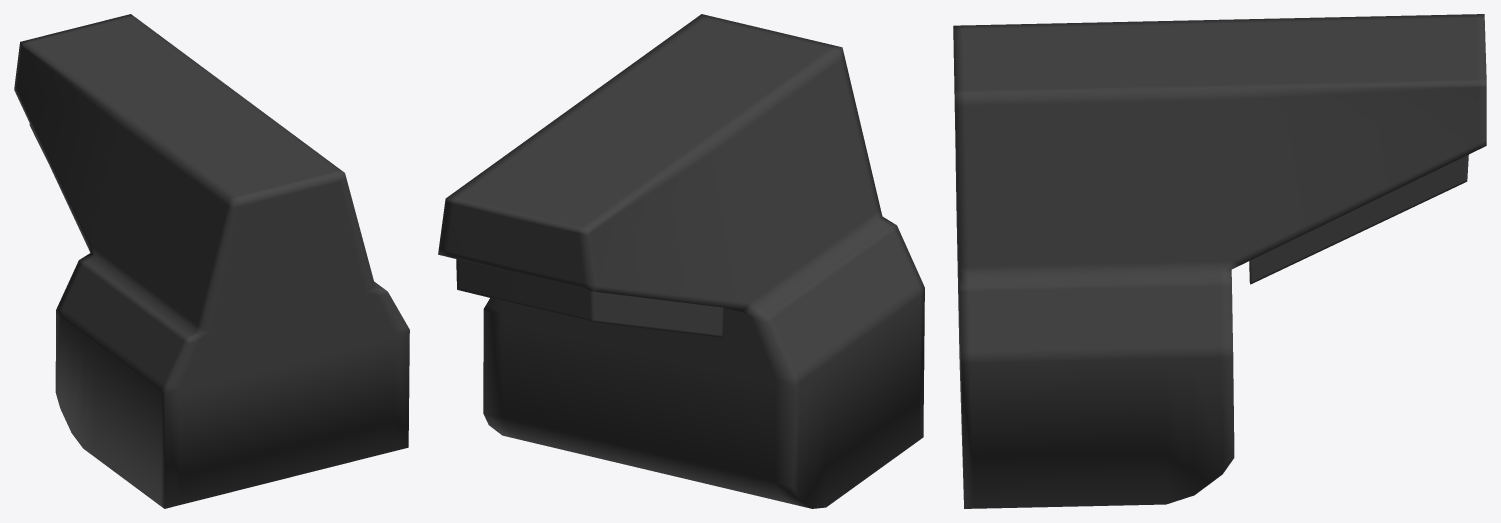
Rendered from gripper.dae.
The picture shows the model from 3 angles, left to right: view 1: azimuth 30°, elevation 25°; view 2: azimuth 150°, elevation 25°; view 3: azimuth 270°, elevation 25°; orthographic projection. The views are drawn at different scales.
Visible parts, largest first — view 1: gripper; view 2: gripper; view 3: gripper.
Boxes of the visible parts, x1,y1,x2,y2 form: gripper: (14,14,409,508); gripper: (438,14,924,508); gripper: (953,14,1486,508).
Size of the model in its own units: 0.9243 by 1.35 by 1.07.
Materials: 1 (1 with a texture image).
